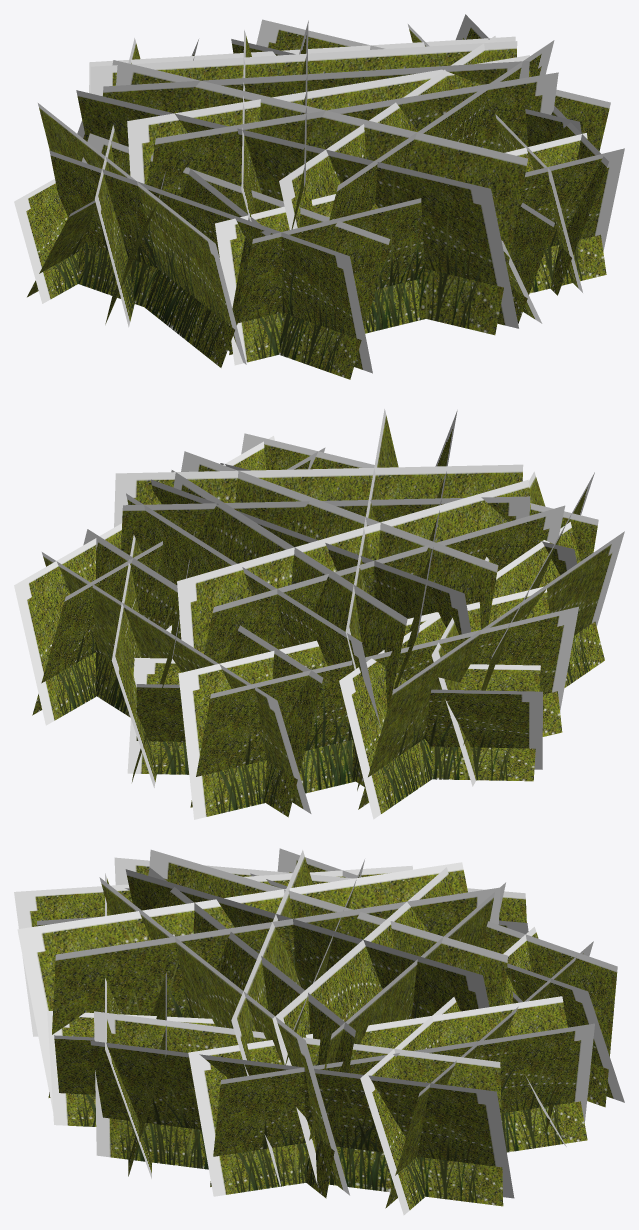
Rendered from Grass Patch Large.FBX.
3 views of the same model, one above another, from view 1: azimuth 30°, elevation 25°; view 2: azimuth 150°, elevation 25°; view 3: azimuth 270°, elevation 25° (orthographic). The views are drawn at different scales.
Visible parts, largest first — view 1: Grass Patch Tall; view 2: Grass Patch Tall; view 3: Grass Patch Tall.
Part boxes in pixels (x1,y1,x2,y2): Grass Patch Tall: (14, 14, 624, 379); Grass Patch Tall: (14, 409, 624, 819); Grass Patch Tall: (14, 848, 624, 1215).
Bounding box in the file's own units: 41.5 × 43.78 × 15.17.
